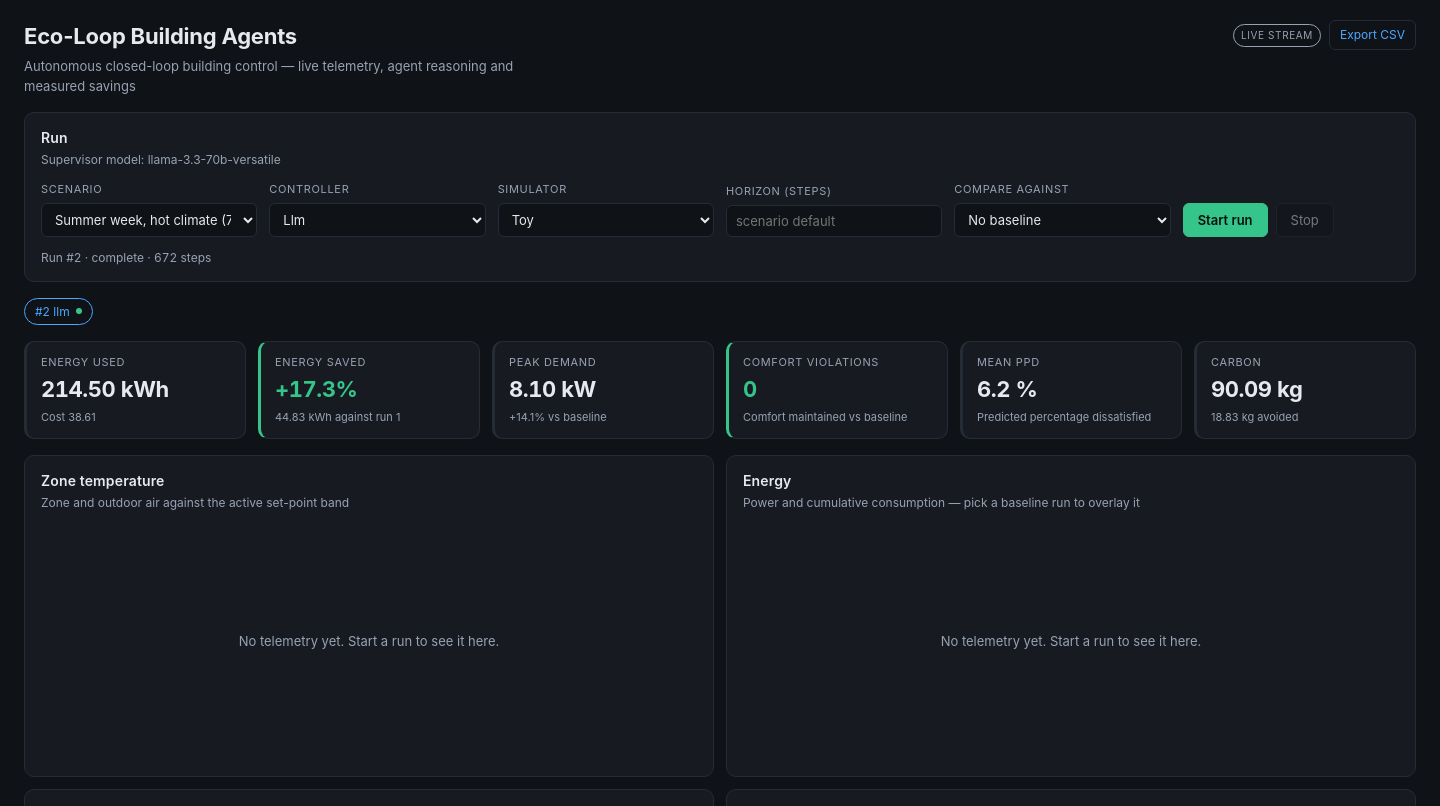
starting and stopping › surfaces a refused start
The width and height of the screenshot is (1440, 806).
Click the button "Start run": (1225, 220) [1183,202,1268,236]
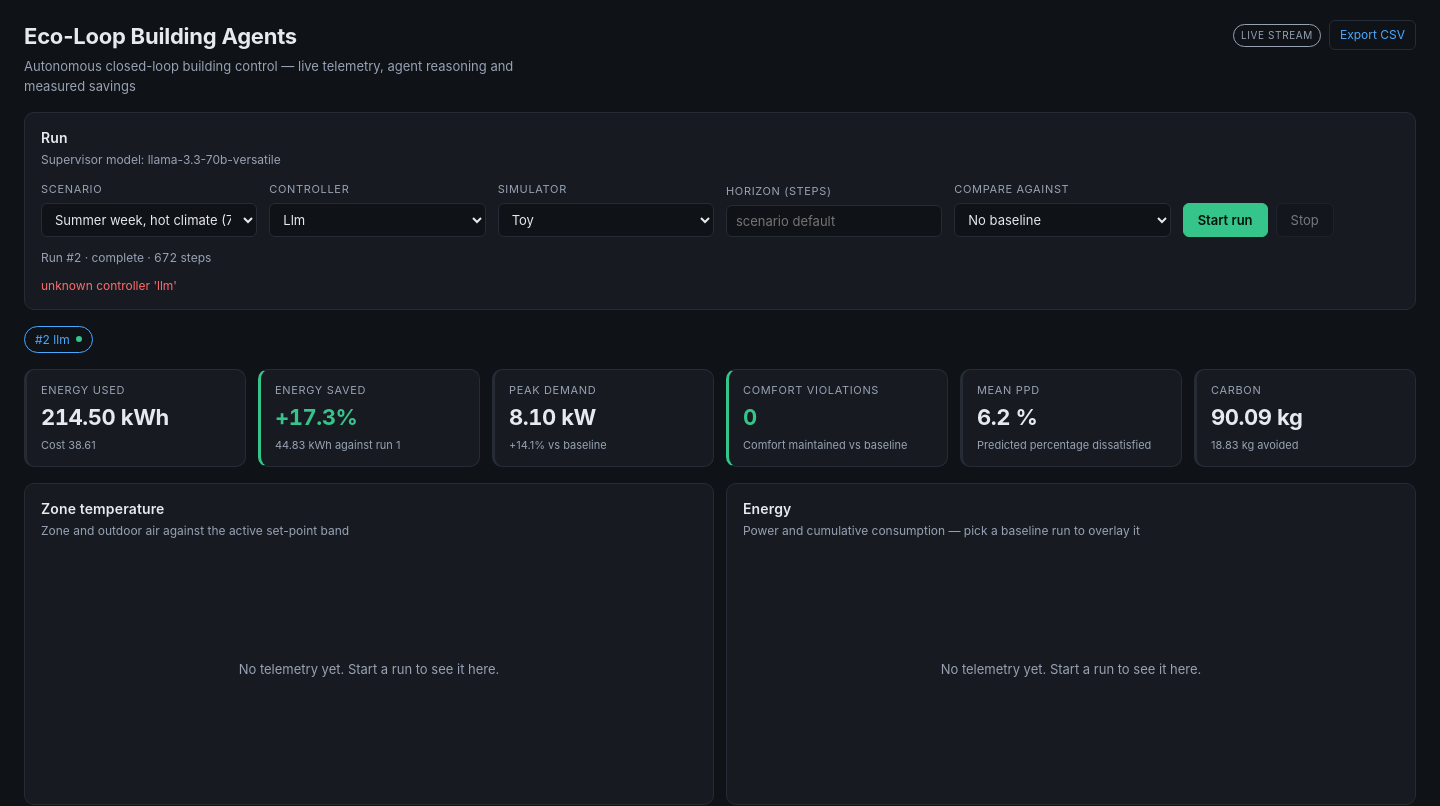
Now the text "unknown controller 'llm'" is shown, box [41,278,177,292]
